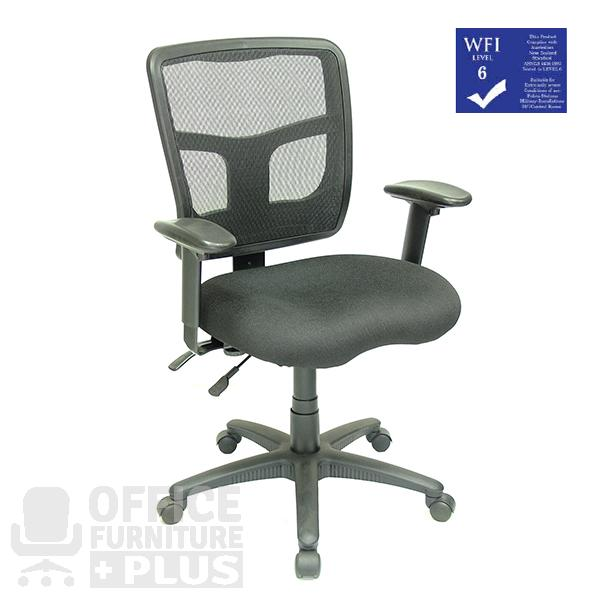chairs: (136, 30, 473, 583)
